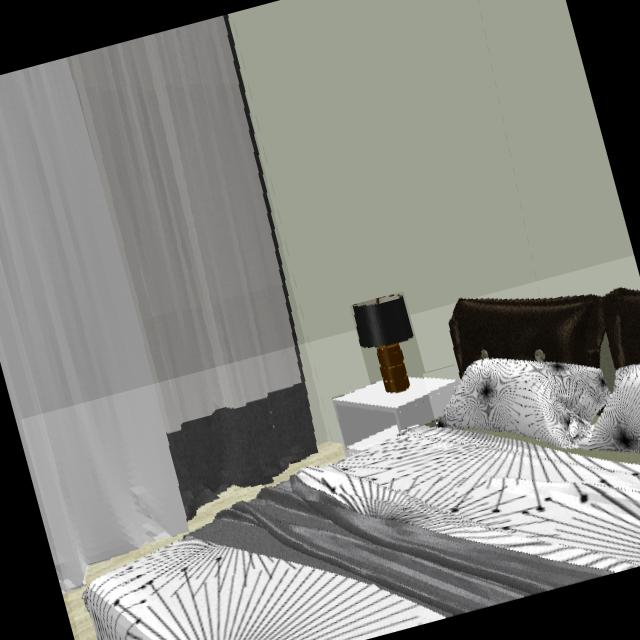bed: (86, 291, 640, 640)
lamp: (352, 293, 415, 395)
nighttable: (335, 378, 461, 448)
pillow: (437, 360, 640, 466)
